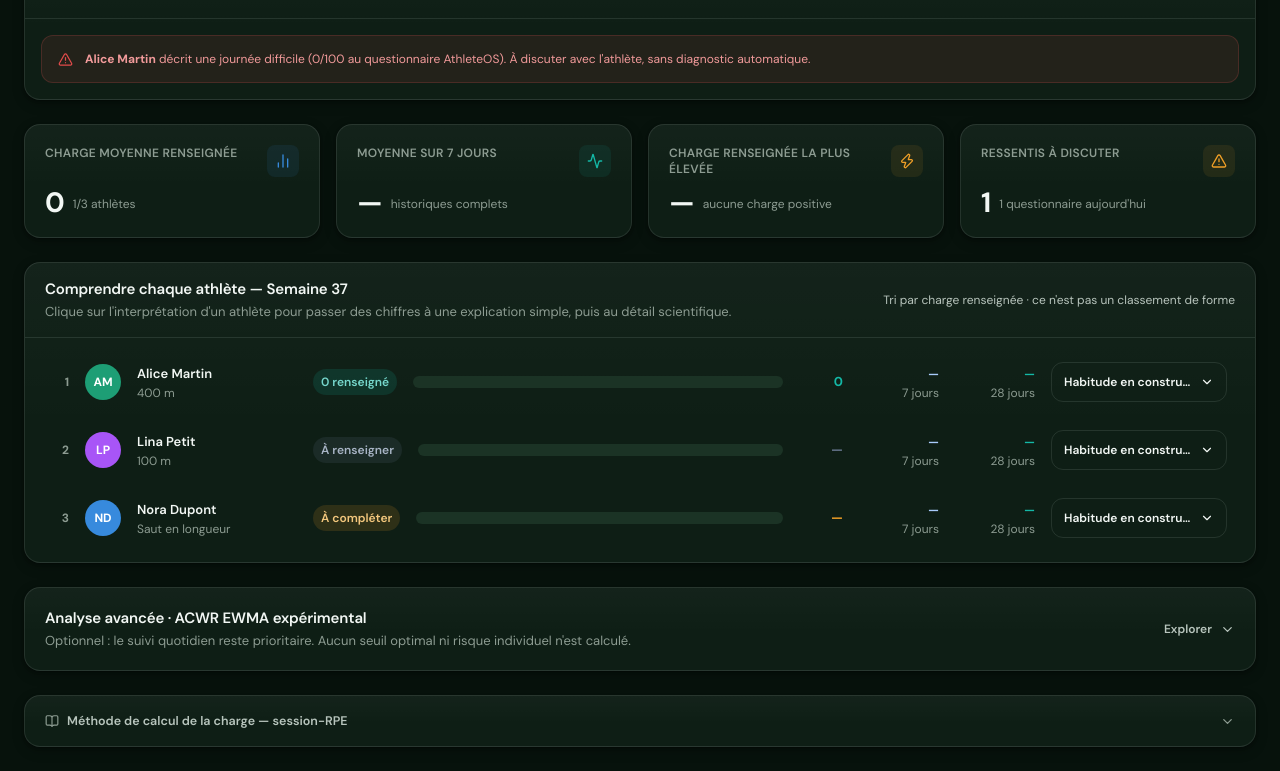
it: ChargeView › n'affiche pas une courbe expérimentale vide comme si elle contenait des mesures
(page scrolled)
Click the button "Analyse avancée · ACWR EWMA expérimental". click: click(206, 618)
box: [25,588,1255,670]
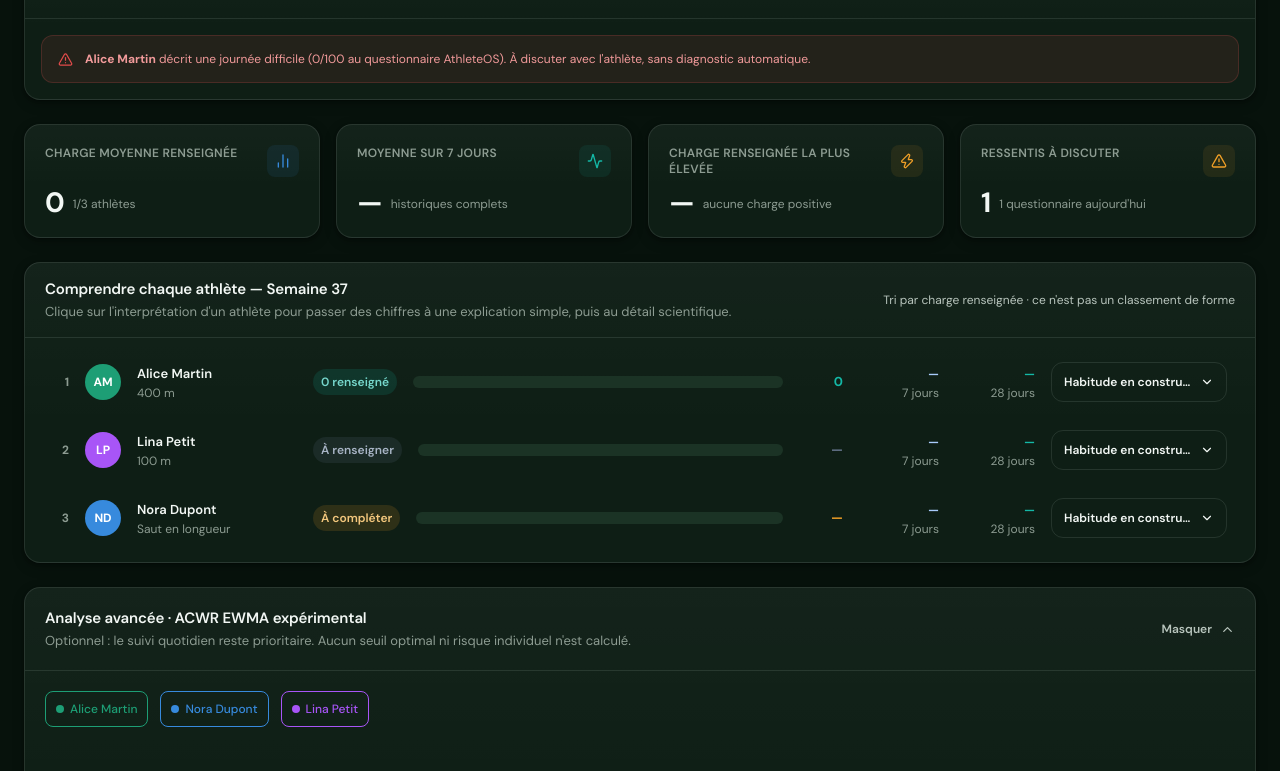
Now the button "Analyse avancée · ACWR EWMA expérimental" is expanded, box [25,588,1255,670]
